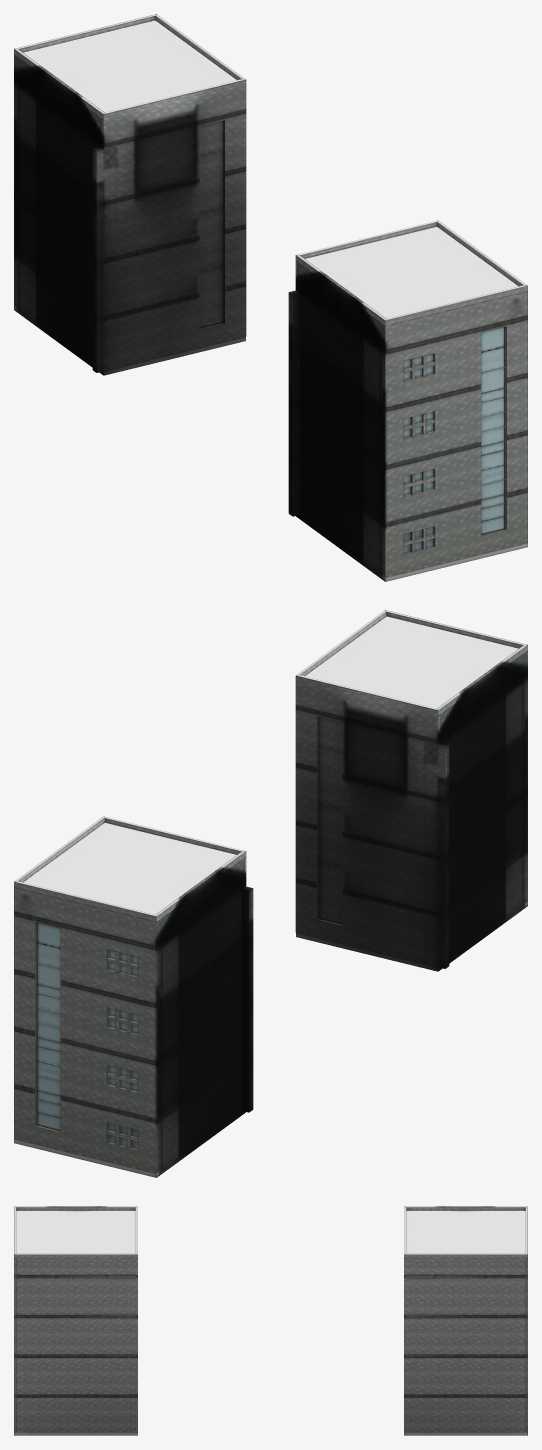
Rendered from office_A1Texture.glb.
The picture shows the model from 3 angles, top to bottom: view 1: azimuth 30°, elevation 25°; view 2: azimuth 150°, elevation 25°; view 3: azimuth 270°, elevation 25°; orthographic projection. The views are drawn at different scales.
Parts seen in each view (by area): view 1: 行政楼1; view 2: 行政楼1; view 3: 行政楼1.
Boxes of the visible parts, x1=… form: 行政楼1: x1=14, y1=14, x2=527, y2=581; 行政楼1: x1=14, y1=610, x2=527, y2=1177; 行政楼1: x1=14, y1=1206, x2=527, y2=1435.
Size of the model in its own units: 10.6 by 17.7 by 45.58.
Materials: 1 (1 with a texture image).
